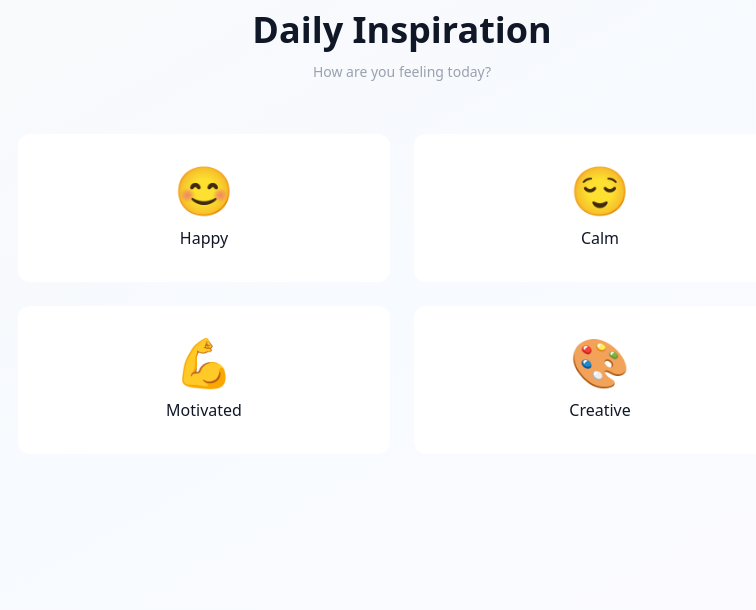
App Integration with InspirationCard › should display content from ContentGeneratorAgent after generation
Expected: the text "How are you feeling today?" is shown, [313, 62, 491, 81]
Click the happy mood button
Click the button "😊 Happy": [204, 208] box [18, 134, 390, 282]
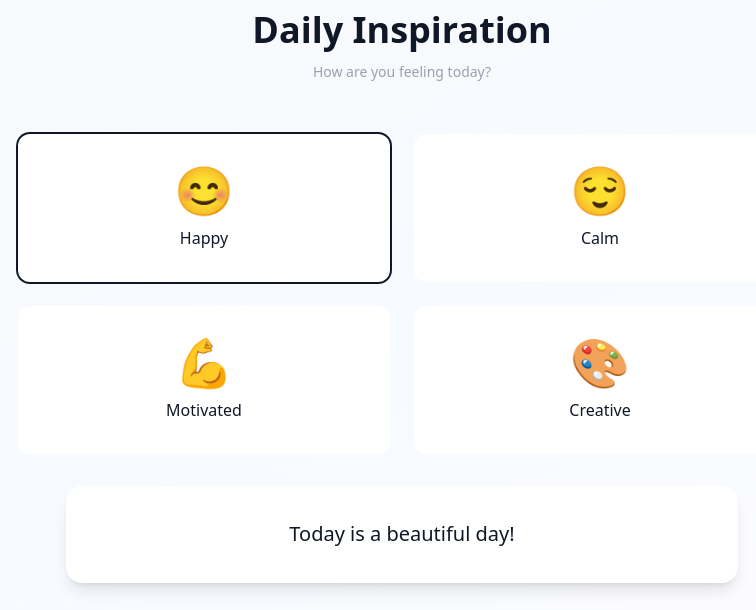
Now the text "Today is a beautiful day!" is shown, box [289, 520, 515, 547]
